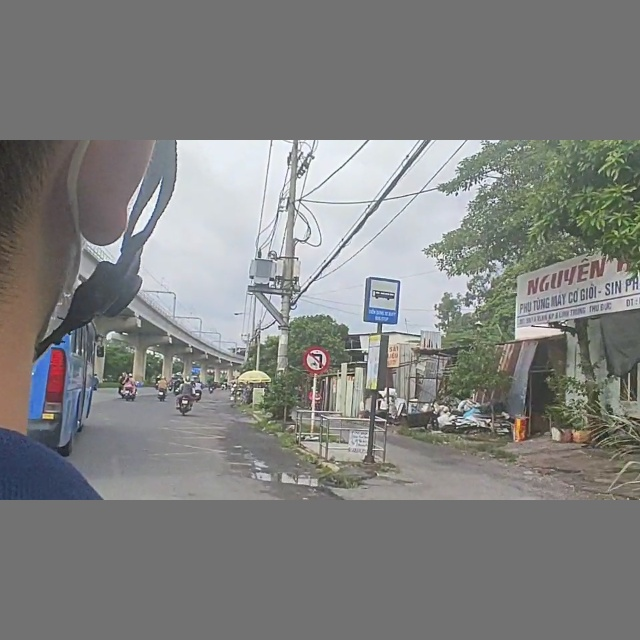I.434a: (364, 274, 401, 325)
P.123a: (301, 345, 334, 374)
